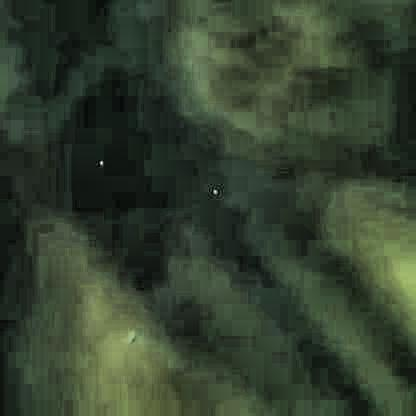golfball: (95, 156, 102, 163)
